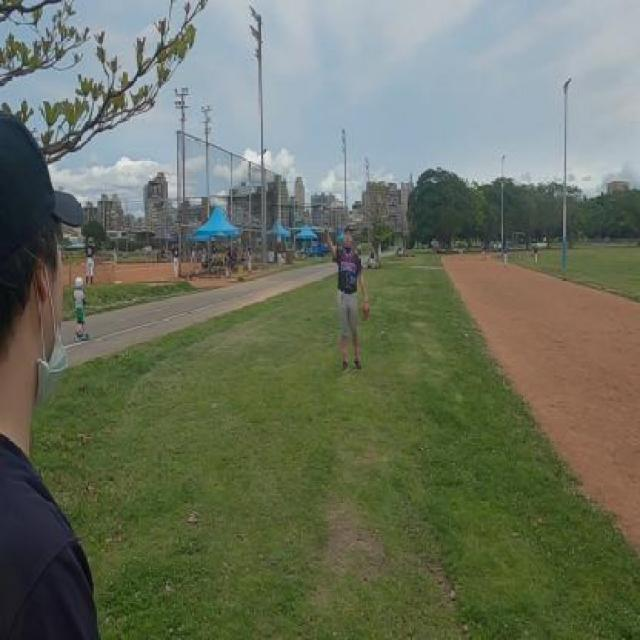baseball: (319, 205, 323, 213)
